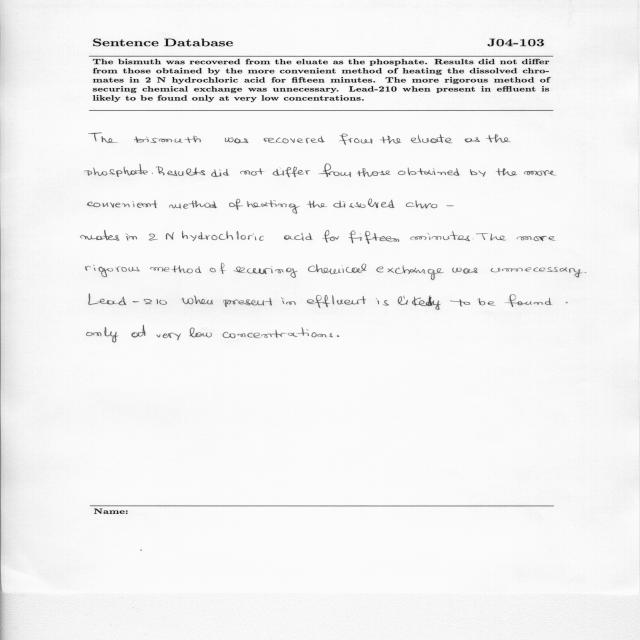word: (223, 327, 333, 338), (376, 265, 444, 280), (491, 267, 583, 278), (89, 294, 167, 305), (84, 164, 148, 177), (182, 231, 264, 241), (505, 294, 568, 307), (234, 266, 298, 278), (307, 295, 366, 308), (247, 200, 300, 214), (349, 230, 400, 244), (86, 265, 140, 277), (398, 295, 441, 310), (410, 231, 470, 241), (308, 264, 366, 274), (88, 200, 158, 208), (398, 167, 460, 176), (333, 199, 395, 208), (156, 167, 205, 177), (264, 136, 325, 144), (87, 327, 119, 342), (134, 136, 201, 143), (223, 298, 272, 307), (169, 200, 217, 209), (318, 164, 351, 177), (81, 230, 119, 241), (150, 266, 202, 274), (339, 133, 373, 145), (405, 201, 454, 209), (411, 135, 453, 144), (273, 167, 310, 177), (357, 168, 391, 177), (89, 133, 118, 143), (182, 296, 213, 305), (476, 233, 506, 241), (284, 233, 313, 241), (189, 328, 212, 338), (486, 134, 511, 143), (323, 231, 340, 243), (156, 333, 181, 341), (131, 325, 146, 338), (240, 168, 264, 176), (524, 170, 556, 176), (517, 236, 555, 241), (452, 267, 478, 274), (380, 136, 402, 144), (210, 263, 226, 274), (496, 168, 517, 176), (211, 168, 229, 177), (229, 199, 243, 210), (225, 138, 249, 144), (478, 298, 496, 306), (307, 201, 327, 208), (450, 300, 470, 307), (281, 297, 296, 305), (470, 169, 485, 176), (376, 298, 389, 306), (126, 234, 137, 241), (465, 137, 480, 142), (166, 232, 174, 240), (149, 234, 158, 241), (337, 335, 339, 337), (584, 272, 587, 273), (152, 173, 153, 174), (473, 239, 474, 239)
